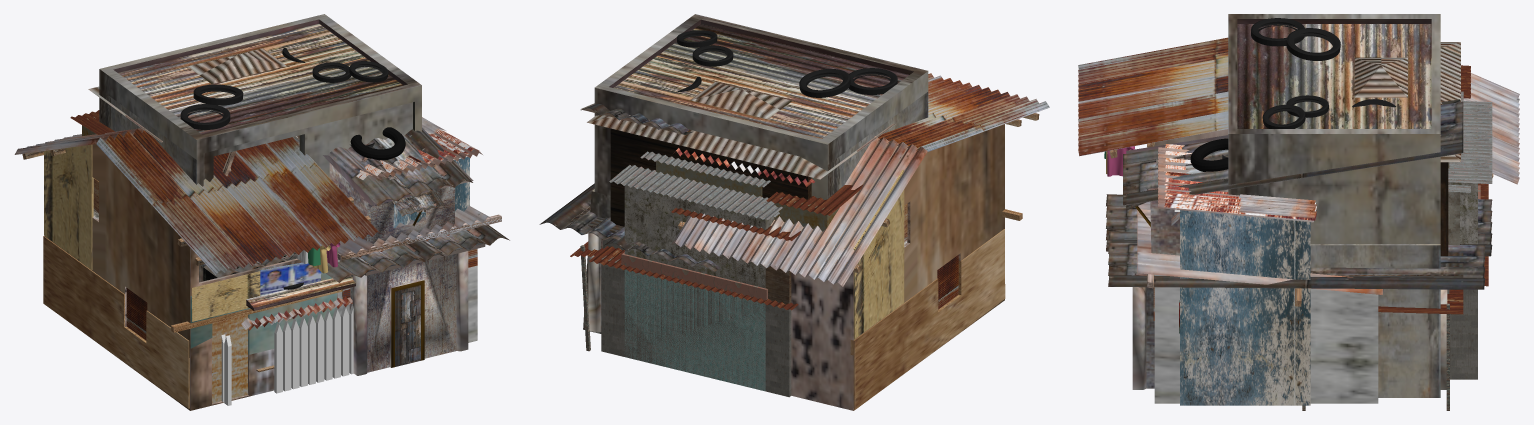
File: house_variants.glb
The picture shows the model from 3 angles, left to right: view 1: azimuth 30°, elevation 25°; view 2: azimuth 150°, elevation 25°; view 3: azimuth 270°, elevation 25°; orthographic projection. The views are drawn at different scales.
Parts seen in each view (by area): view 1: House_V8_Patchwork, House_V13_Semento, House_V7_Fence, House_V11_Tindahan, House_V12_Kahoy, House_V10_Brick, House_V1_Tindahan; view 2: House_V8_Patchwork, House_V13_Semento, House_V2_Blue, House_V3_Tindahan, House_V12_Kahoy, House_V7_Fence, House_V1_Tindahan, House_V4_Tall, House_V11_Tindahan; view 3: House_V13_Semento, House_V8_Patchwork, House_V11_Tindahan, House_V7_Fence, House_V12_Kahoy, House_V2_Blue, House_V3_Tindahan, House_V1_Tindahan.
Boxes of the visible parts, left/top/right/bottom form: House_V8_Patchwork: left=14, top=127, right=501, bottom=410; House_V13_Semento: left=99, top=14, right=421, bottom=282; House_V7_Fence: left=93, top=127, right=509, bottom=405; House_V11_Tindahan: left=241, top=117, right=482, bottom=372; House_V12_Kahoy: left=88, top=48, right=355, bottom=310; House_V10_Brick: left=200, top=135, right=299, bottom=281; House_V1_Tindahan: left=70, top=110, right=114, bottom=135; House_V8_Patchwork: left=671, top=73, right=1049, bottom=410; House_V13_Semento: left=583, top=14, right=928, bottom=333; House_V2_Blue: left=609, top=165, right=782, bottom=391; House_V3_Tindahan: left=589, top=208, right=800, bottom=397; House_V12_Kahoy: left=587, top=76, right=895, bottom=226; House_V7_Fence: left=539, top=103, right=907, bottom=332; House_V1_Tindahan: left=570, top=169, right=863, bottom=351; House_V4_Tall: left=603, top=151, right=770, bottom=250; House_V11_Tindahan: left=673, top=148, right=814, bottom=187; House_V13_Semento: left=1228, top=14, right=1440, bottom=397; House_V8_Patchwork: left=1078, top=37, right=1519, bottom=403; House_V11_Tindahan: left=1158, top=144, right=1316, bottom=405; House_V7_Fence: left=1106, top=99, right=1492, bottom=389; House_V12_Kahoy: left=1352, top=42, right=1460, bottom=256; House_V2_Blue: left=1448, top=101, right=1492, bottom=244; House_V3_Tindahan: left=1450, top=183, right=1488, bottom=379; House_V1_Tindahan: left=1302, top=65, right=1470, bottom=410.
Bounding box in the file's own units: 11.82 × 8.73 × 12.34.
Materials: 91 (71 with a texture image).
